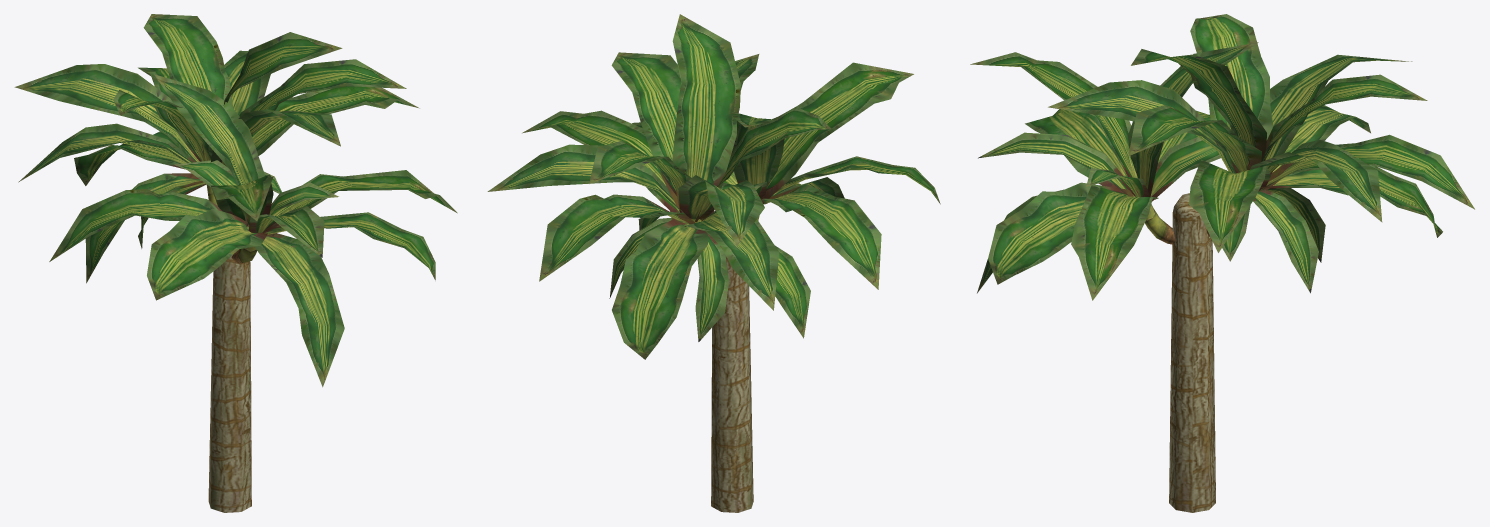
Rendered from Palm_4.fbx.
The picture shows the model from 3 angles, left to right: view 1: azimuth 30°, elevation 25°; view 2: azimuth 150°, elevation 25°; view 3: azimuth 270°, elevation 25°; orthographic projection. The views are drawn at different scales.
Visible parts, largest first — view 1: Dracaena_Leaf_01.001; view 2: Dracaena_Leaf_01.001; view 3: Dracaena_Leaf_01.001.
Boxes of the visible parts, x1,y1,x2,y2 form: Dracaena_Leaf_01.001: (14, 14, 457, 512); Dracaena_Leaf_01.001: (487, 14, 940, 512); Dracaena_Leaf_01.001: (970, 14, 1474, 512).
Size of the model in its own units: 2.2 by 2.61 by 2.5.
